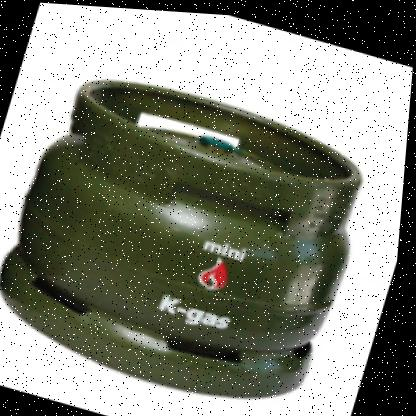gas-tank: (0, 46, 413, 415)
